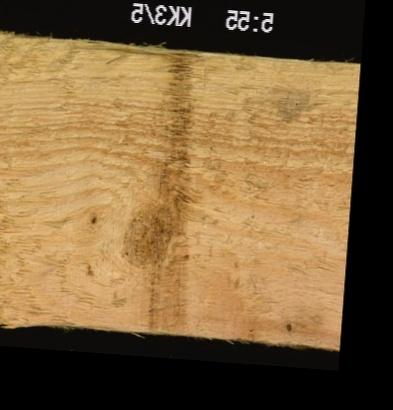small_knot: (86, 211, 100, 227), (282, 318, 293, 334)
sound_knot: (117, 195, 184, 272)
